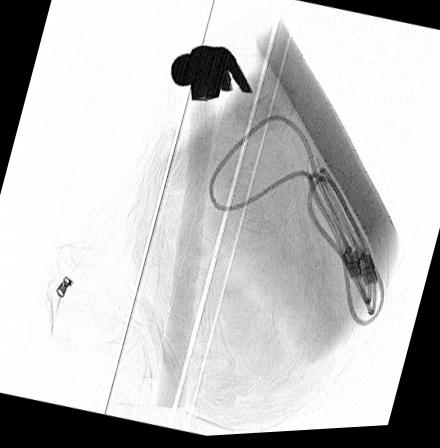Hammer: (157, 46, 254, 410)
